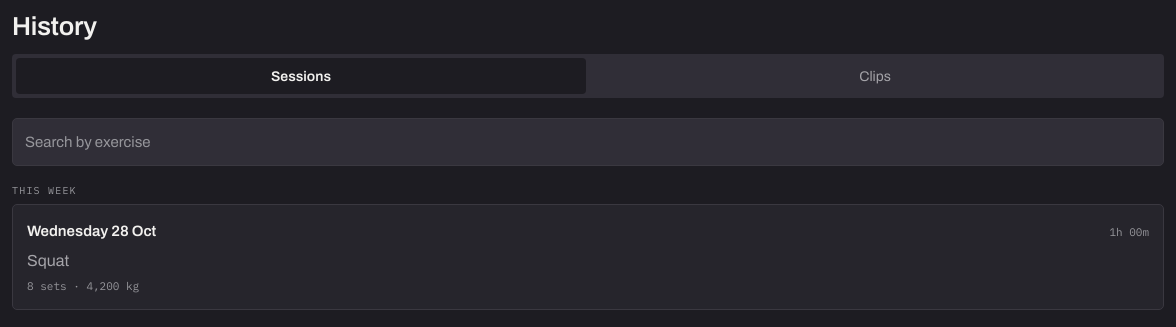
Test: search › says nothing matched rather than showing an empty page
Expected: the link "Wednesday 28 Oct 1h 00m Squat 8 sets · 4,200 kg" is shown, top-left (12, 204), bottom-right (1164, 310)
Type "curl" into the search field. click: (588, 142)
box: top-left (12, 118), bottom-right (1164, 166)
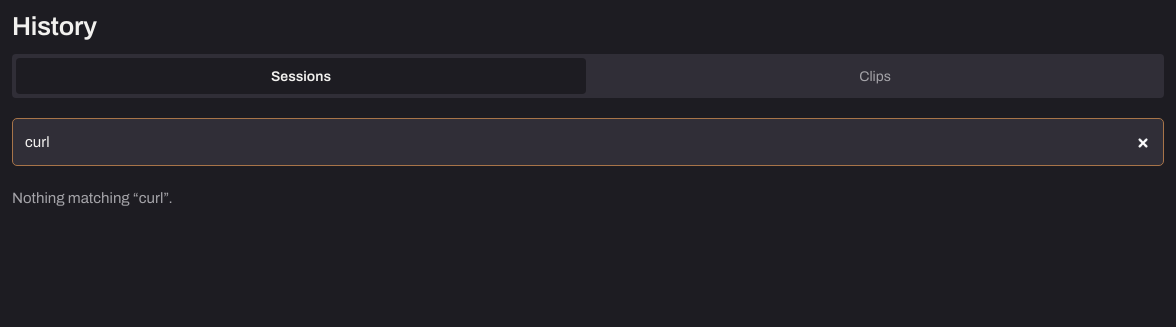
Expected: the message shows "Nothing matching", top-left (12, 190), bottom-right (139, 206)
